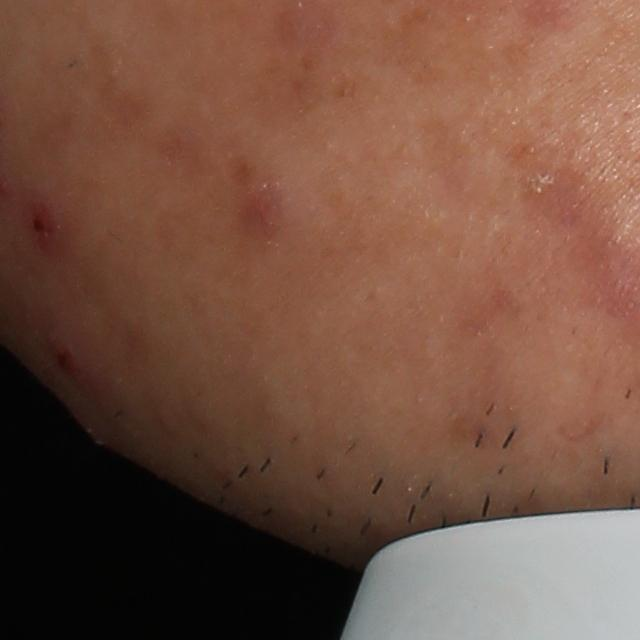papule: (234, 161, 291, 235), (21, 203, 57, 255), (43, 335, 82, 376)
